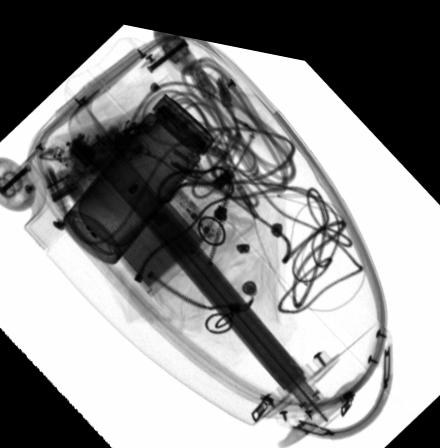Powerbank: (103, 177, 219, 293)
